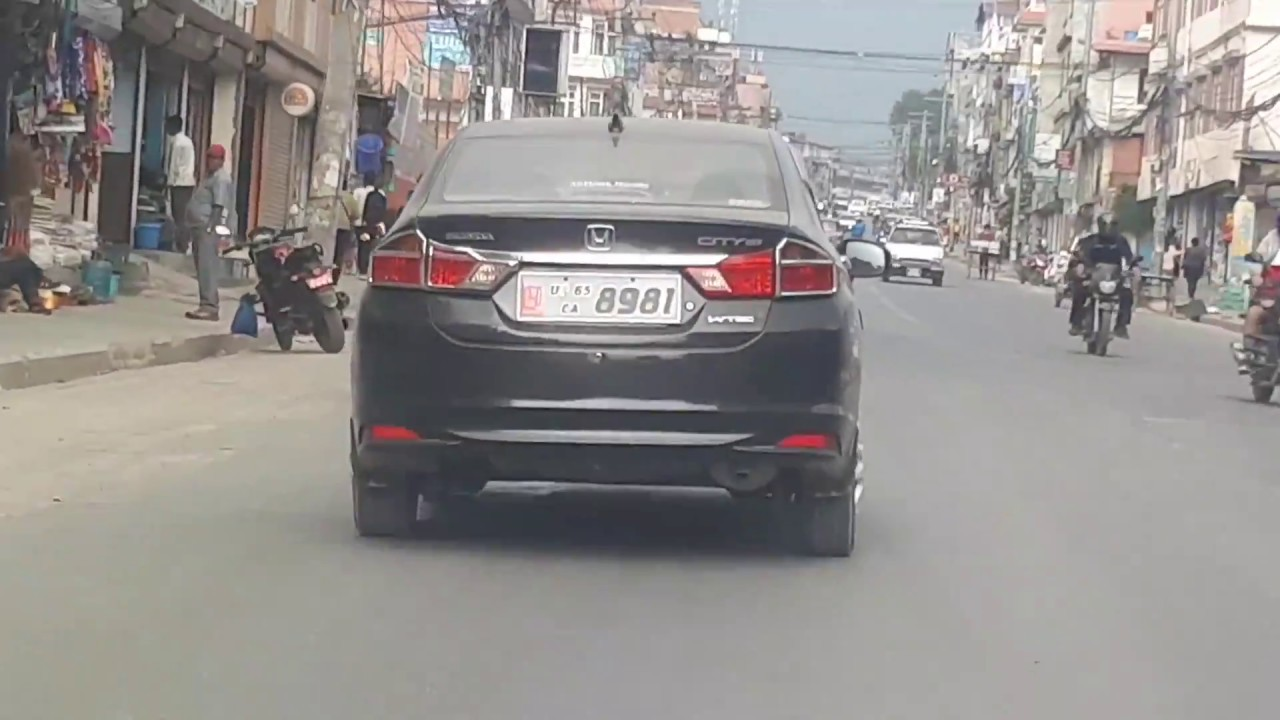number_plate: (514, 263, 685, 336)
